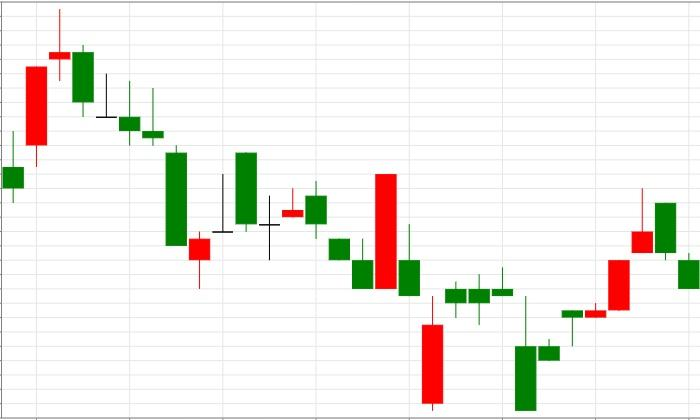bullish_engulfing_rise: (282, 173, 397, 289)
shooting_star_fall: (515, 188, 653, 411)
